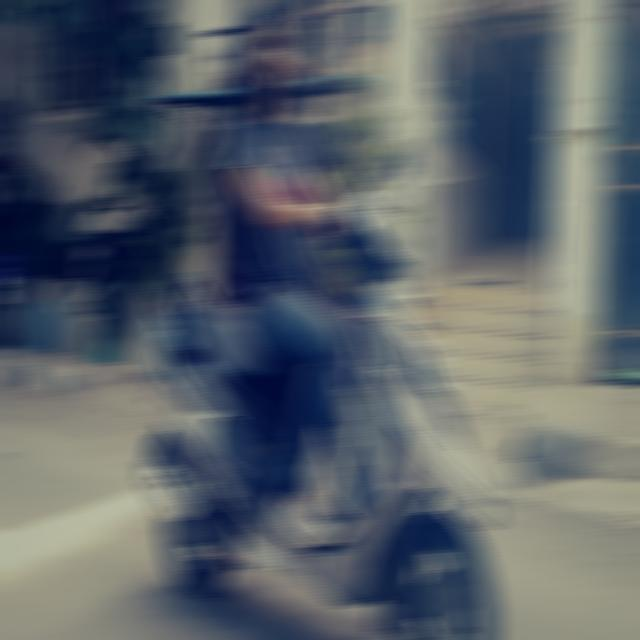Without Helmet: (235, 0, 295, 107)
